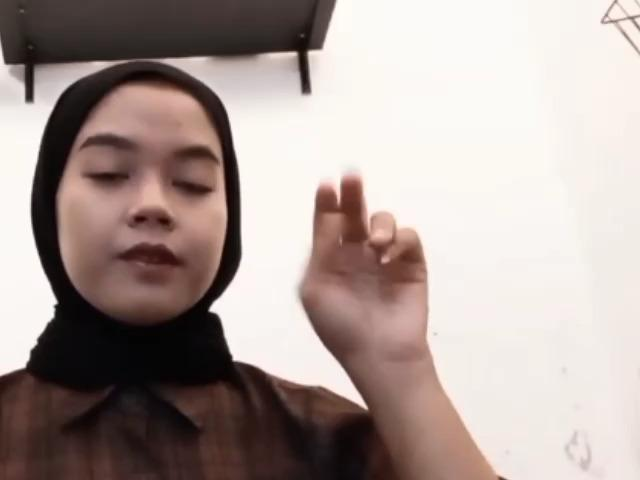R: (293, 166, 445, 358)
